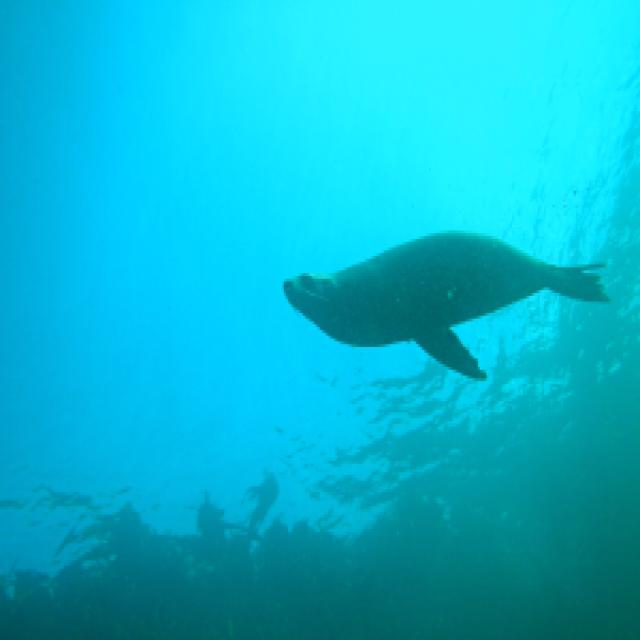Seal: (278, 235, 613, 367)
